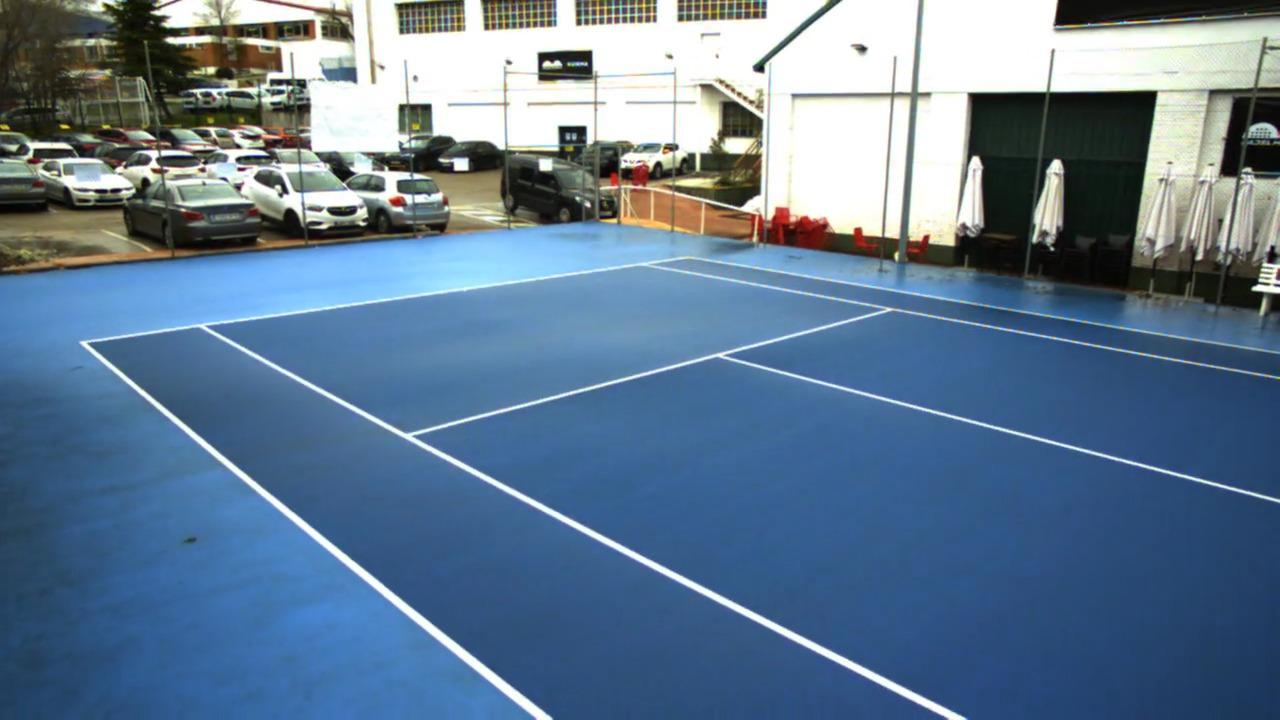cancha_tenis: (196, 262, 1280, 720)
point_f1: (188, 311, 216, 336)
point_f2: (632, 253, 656, 273)
point_fc1: (454, 282, 473, 298)
point_i1: (390, 422, 426, 449)
point_i2: (872, 300, 900, 321)
point_ic1: (706, 340, 737, 368)
